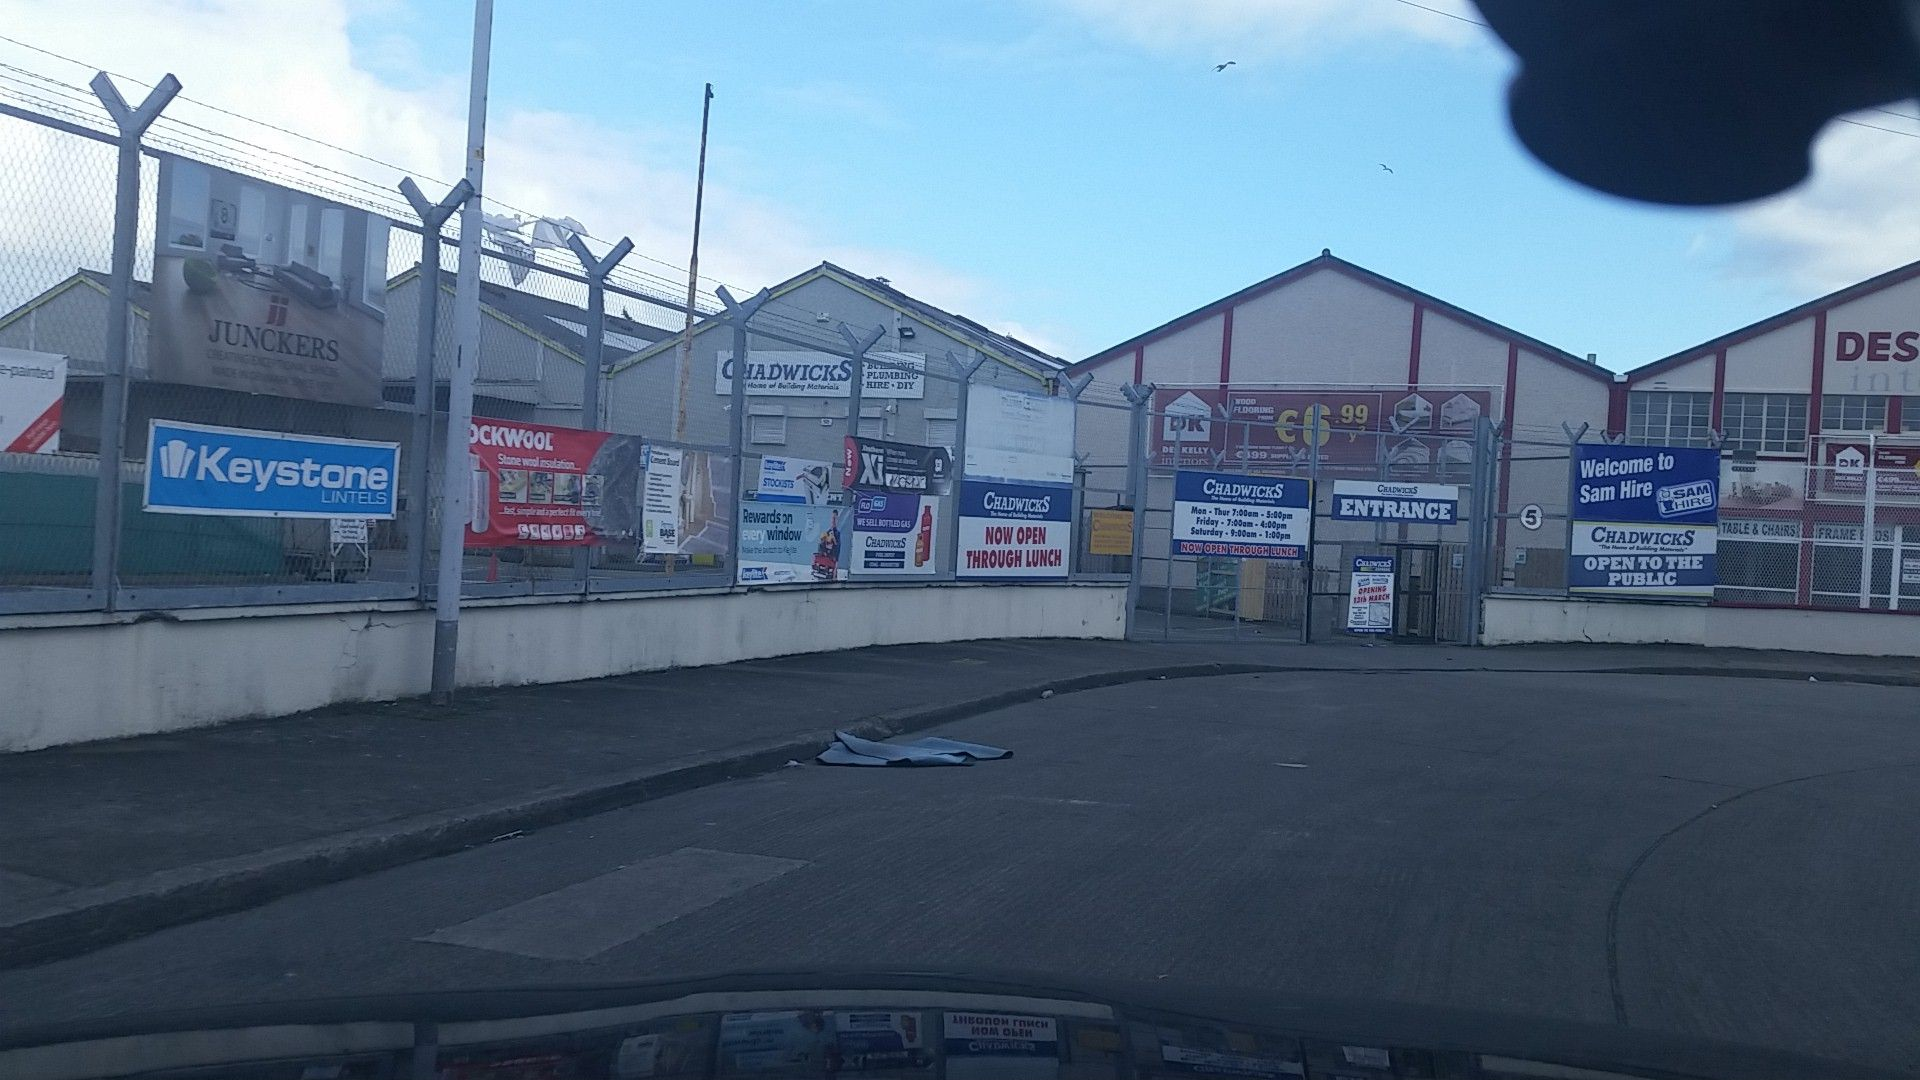vinyl banner: (117, 140, 397, 406), (135, 400, 418, 531), (448, 402, 649, 584), (1567, 435, 1726, 597), (1155, 458, 1319, 567), (636, 435, 753, 582), (847, 487, 969, 591), (728, 495, 857, 589), (953, 480, 1065, 588), (825, 417, 963, 502), (1333, 469, 1472, 535), (3, 338, 70, 468)
